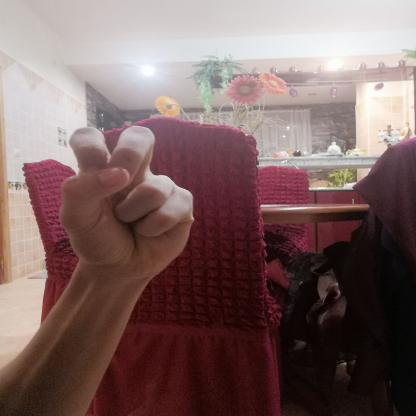QAAF: (36, 115, 210, 294)
